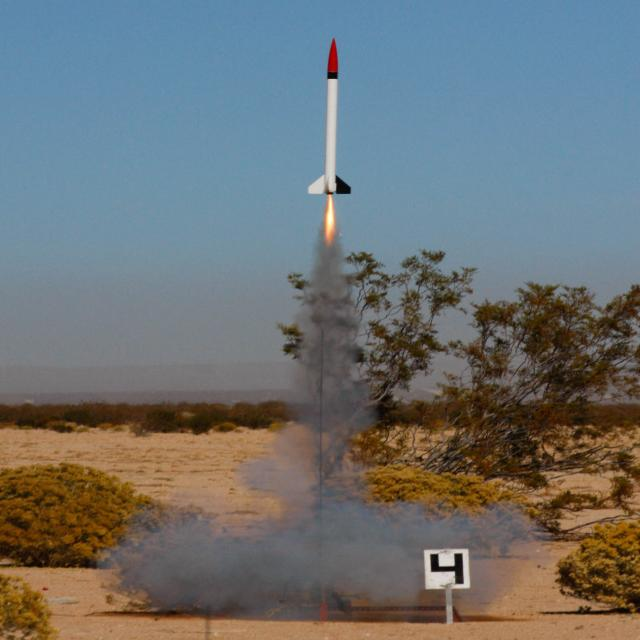Rocket: (307, 36, 352, 195)
